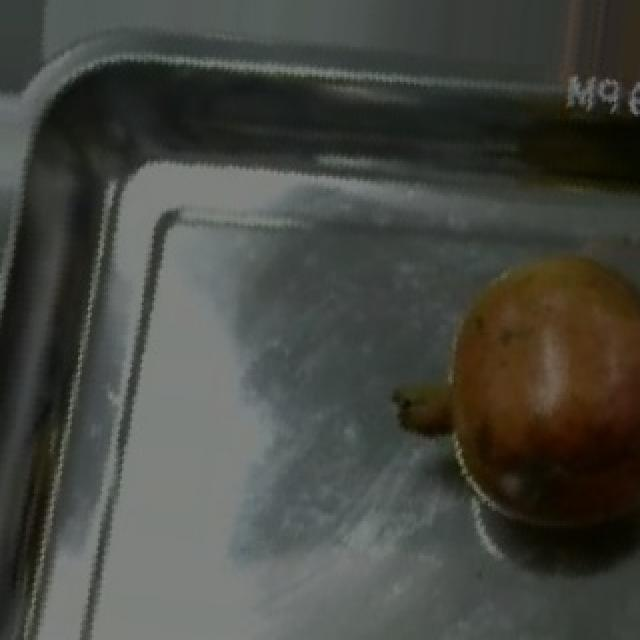fruit: (410, 273, 640, 558)
